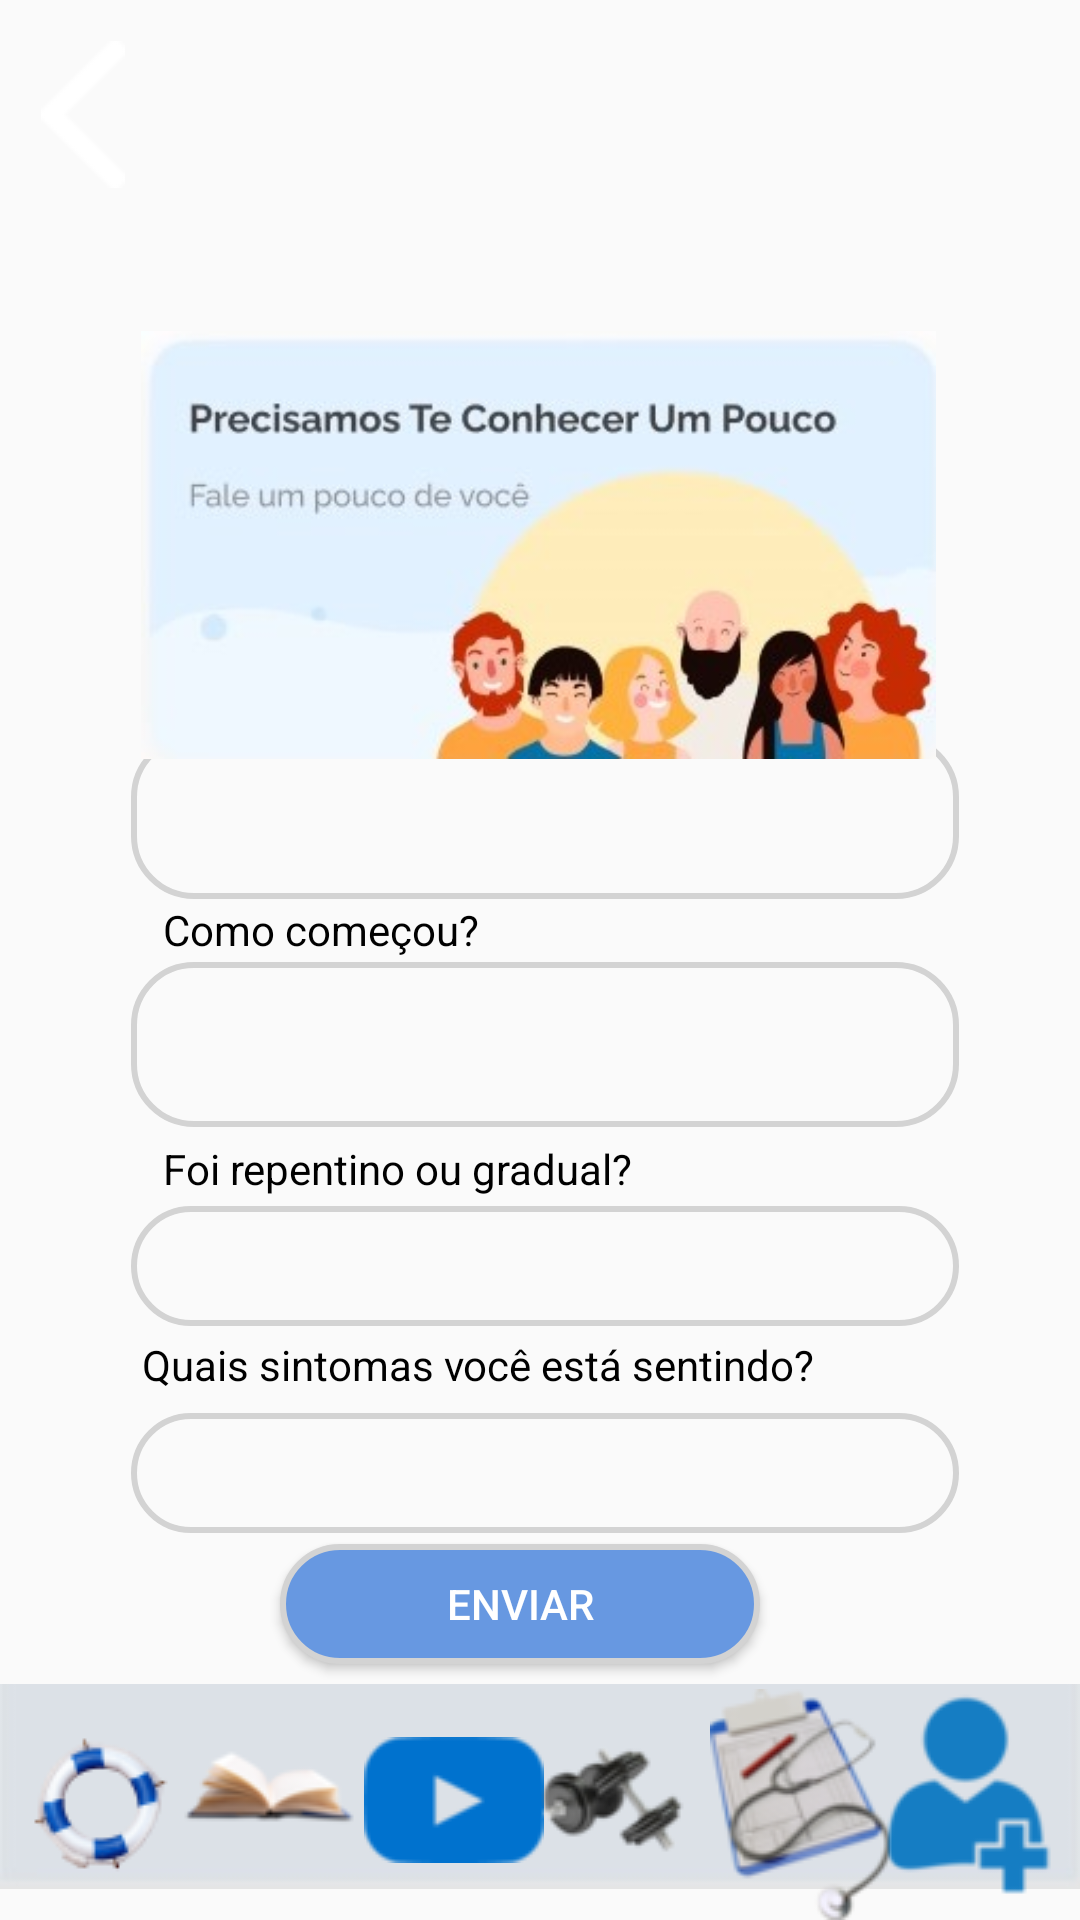

Screen size 1080*1920. Icon name, then its center in pixels as point (x, y):
ajudabotao: point (100, 1803)
iconecadastromenu: point (972, 1796)
iconelivromenu: point (270, 1788)
iconepalylistmenu: point (454, 1800)
iconexerciciosmenu: point (608, 1806)
